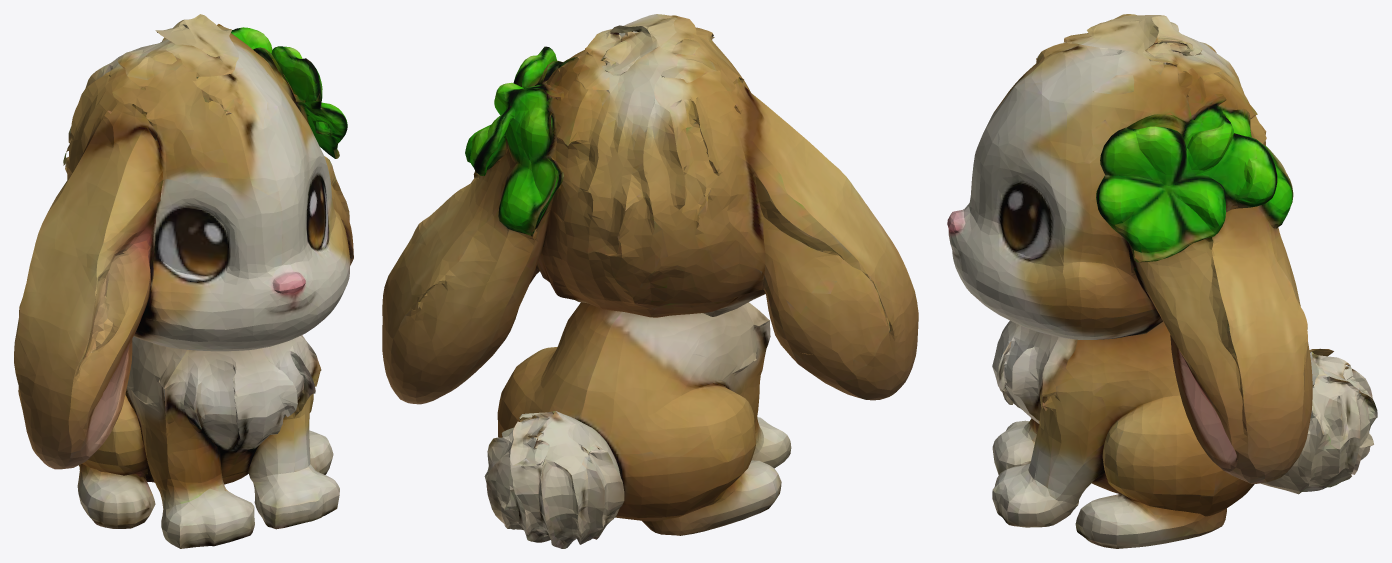
Rendered from clover.glb.
3 views of the same model, side by side, from view 1: azimuth 30°, elevation 25°; view 2: azimuth 150°, elevation 25°; view 3: azimuth 270°, elevation 25° (orthographic). The views are drawn at different scales.
Parts seen in each view (by area): view 1: geometry_0; view 2: geometry_0; view 3: geometry_0.
Boxes of the visible parts, box(x1,y1,x2,y2) form: geometry_0: box(14, 14, 353, 548); geometry_0: box(382, 14, 918, 548); geometry_0: box(947, 14, 1377, 548).
Bounding box in the file's own units: 0.9349 × 1 × 0.8153.
Materials: 1 (1 with a texture image).
